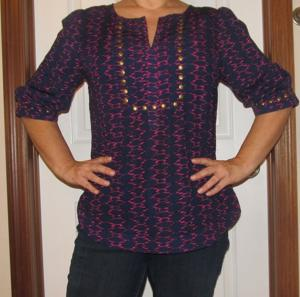C_W_pants: (65, 222, 234, 297)
C_short blouse: (12, 2, 300, 257)
